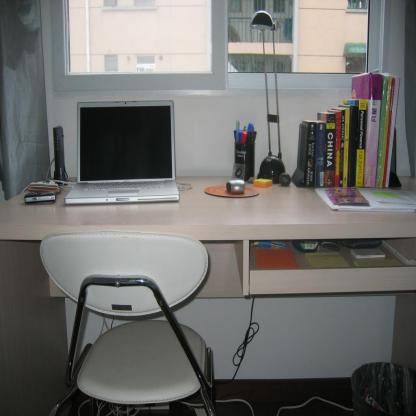board: (64, 101, 180, 206)
